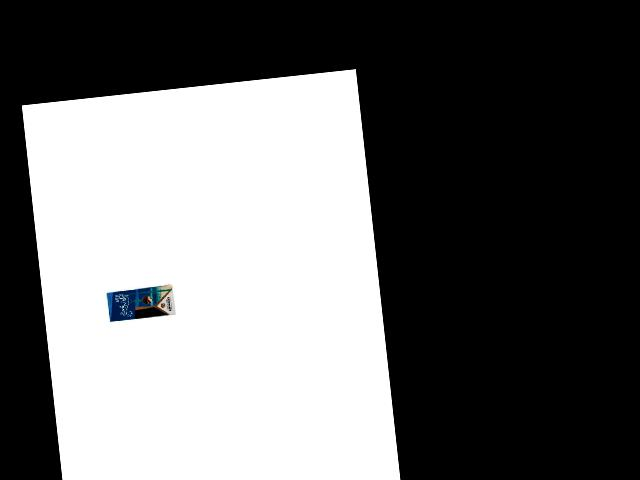chocolate: (105, 283, 177, 323)
